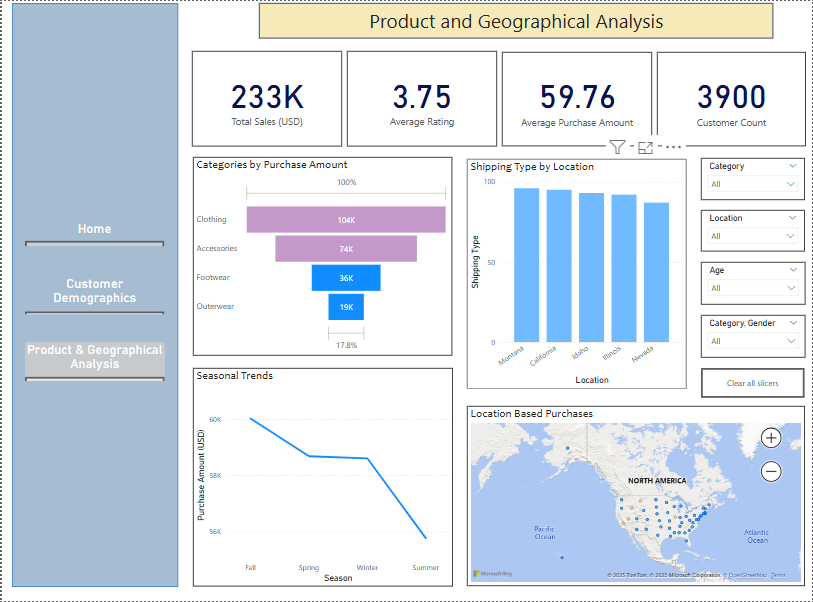

The page's visual inventory and layout, read from the dashboard file:
{"tool":"powerbi","page":{"name":"Product","canvas":[1350,1000],"ordinal":2},"visuals":[{"type":"slicer","fields":{"Values":["Sales Report.Category"]},"box":[1165.5,261.2,173.3,70],"z":0,"group":"g1"},{"type":"shape","box":[16,3.2,277.2,972.8],"z":0},{"type":"slicer","fields":{"Values":["Sales Report.Location"]},"box":[1165.8,348.7,172.7,68.9],"z":1000,"group":"g1"},{"type":"actionButton","title":"Customer Demographics","box":[38.5,458.3,232.4,64.1],"z":1000},{"type":"slicer","fields":{"Values":["Sales Report.Age"]},"box":[1165.1,435,174.1,70.5],"z":2000,"group":"g1"},{"type":"actionButton","title":"Home","box":[39,367.1,232,42],"z":2000},{"type":"slicer","fields":{"Values":["Sales Report.Category","Sales Report.Gender"]},"box":[1165.1,523,174.1,70.5],"z":3000,"group":"g1"},{"type":"actionButton","title":"Product & Geographical Analysis","box":[38,568,232.6,64.9],"z":3000},{"type":"textbox","box":[427.9,3.2,857.4,59.3],"z":4000},{"type":"actionButton","box":[1165.8,611,172.7,49.7],"z":4000,"group":"g1"},{"type":"card","fields":{"Values":["Sum(Sales Report.Purchase Amount (USD))"]},"box":[317.2,83.7,250,158.7],"z":5000},{"type":"card","fields":{"Values":["Avg(Sales Report.Review Rating)"]},"box":[575.3,83.7,250,158.7],"z":6000},{"type":"card","fields":{"Values":["Avg(Sales Report.Purchase Amount (USD))"]},"box":[833.3,84.5,250,157.1],"z":7000},{"type":"card","fields":{"Values":["CountNonNull(Sales Report.Customer ID)"]},"box":[1091.3,84.5,248.4,157.1],"z":8000},{"type":"group","id":"g1","title":"Group 1","box":[1165.1,261.2,174.7,399],"z":9000},{"type":"funnel","title":"Categories by Purchase Amount","fields":{"Category":["Sales Report.Category"],"Y":["Sum(Sales Report.Purchase Amount (USD))"]},"box":[317.6,260.7,431.6,331.5],"z":10000},{"type":"lineChart","title":"Seasonal Trends","fields":{"Category":["Sales Report.Season"],"Y":["Sum(Sales Report.Purchase Amount (USD))"]},"box":[317.6,611.1,433.3,364.3],"z":11000},{"type":"columnChart","fields":{"Category":["Sales Report.Location"],"Y":["CountNonNull(Sales Report.Shipping Type)"]},"box":[775.1,264.1,366,383.2],"z":12001},{"type":"map","title":"Location Based Purchases","fields":{"Category":["Sales Report.Location"],"Size":["Sum(Sales Report.Purchase Amount (USD))"]},"box":[775.1,675,562.8,300.4],"z":12002}]}

Visuals, with their boxes in screenshot pixels (x1, y1, x2, y2), scaled from the page's 1350x1000 canvas onto the 813x602 screenshot:
slicer - Sales Report.Category: [x1=702, y1=157, x2=806, y2=199]
shape: [x1=10, y1=2, x2=177, y2=588]
slicer - Sales Report.Location: [x1=702, y1=210, x2=806, y2=251]
"Customer Demographics" actionButton: [x1=23, y1=276, x2=163, y2=314]
slicer - Sales Report.Age: [x1=702, y1=262, x2=806, y2=304]
"Home" actionButton: [x1=23, y1=221, x2=163, y2=246]
slicer - Sales Report.Category x Sales Report.Gender: [x1=702, y1=315, x2=806, y2=357]
"Product & Geographical Analysis" actionButton: [x1=23, y1=342, x2=163, y2=381]
textbox: [x1=258, y1=2, x2=774, y2=38]
actionButton: [x1=702, y1=368, x2=806, y2=398]
card - Sum(Sales Report.Purchase Amount (USD)): [x1=191, y1=50, x2=342, y2=146]
card - Avg(Sales Report.Review Rating): [x1=346, y1=50, x2=497, y2=146]
card - Avg(Sales Report.Purchase Amount (USD)): [x1=502, y1=51, x2=652, y2=145]
card - CountNonNull(Sales Report.Customer ID): [x1=657, y1=51, x2=807, y2=145]
"Group 1" group: [x1=702, y1=157, x2=807, y2=397]
"Categories by Purchase Amount" funnel: [x1=191, y1=157, x2=451, y2=357]
"Seasonal Trends" lineChart: [x1=191, y1=368, x2=452, y2=587]
columnChart - Sales Report.Location x CountNonNull(Sales Report.Shipping Type): [x1=467, y1=159, x2=687, y2=390]
"Location Based Purchases" map: [x1=467, y1=406, x2=806, y2=587]
